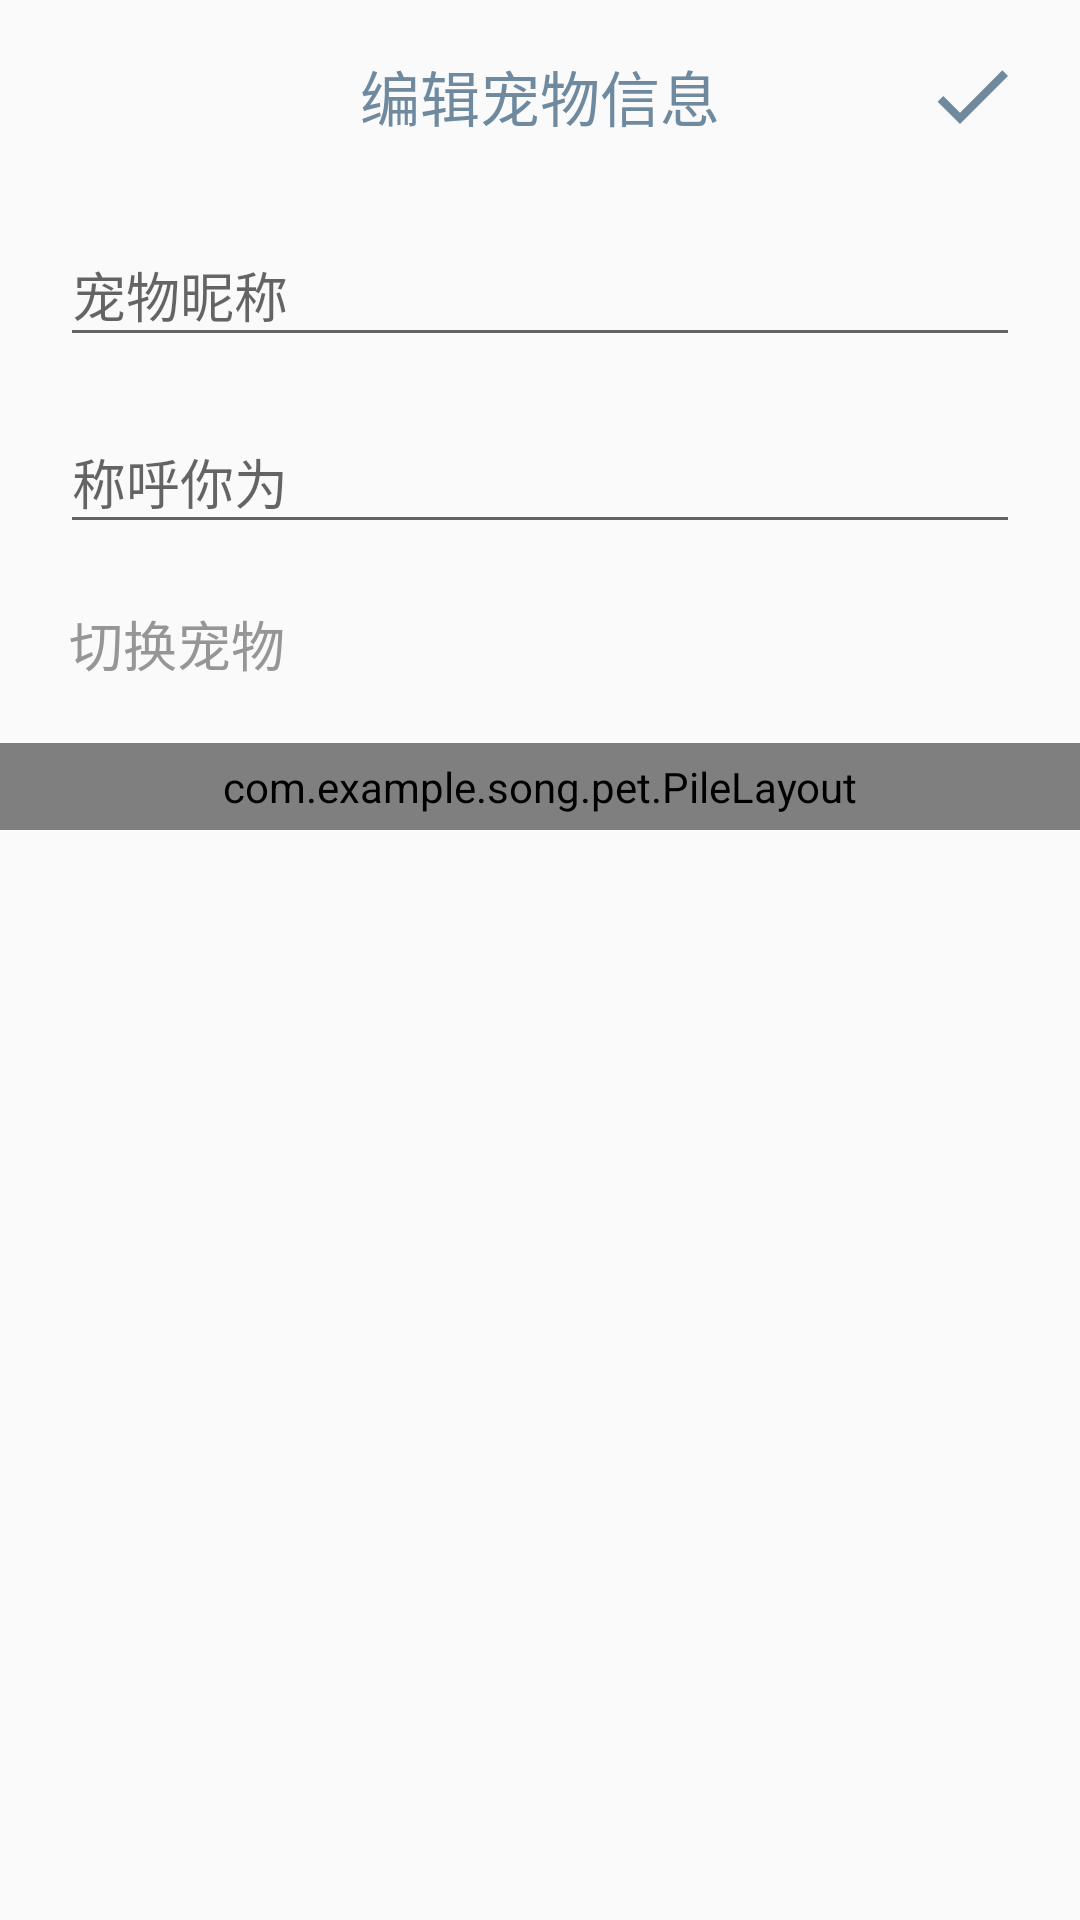

Icons on this 1080px×1920px Android screen, each with its box as (x1, y1, x2, y2):
Done: (938, 70, 1008, 124)
